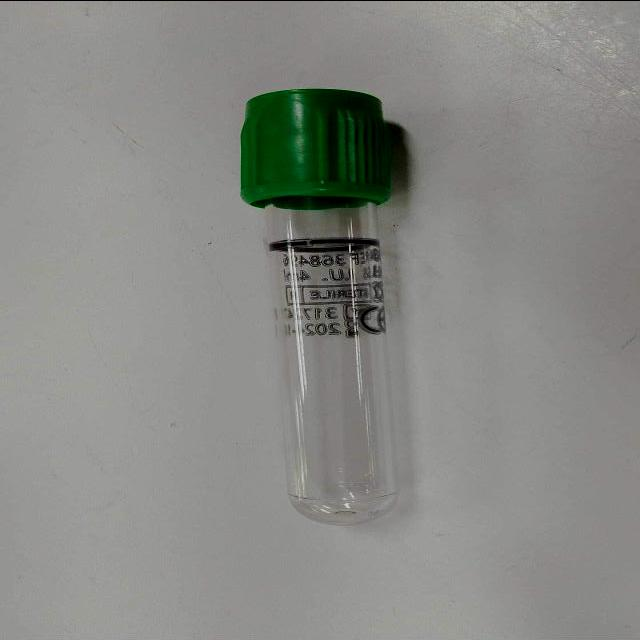General: (237, 86, 393, 212), (274, 239, 387, 340)
Sharps: (237, 86, 400, 527)
